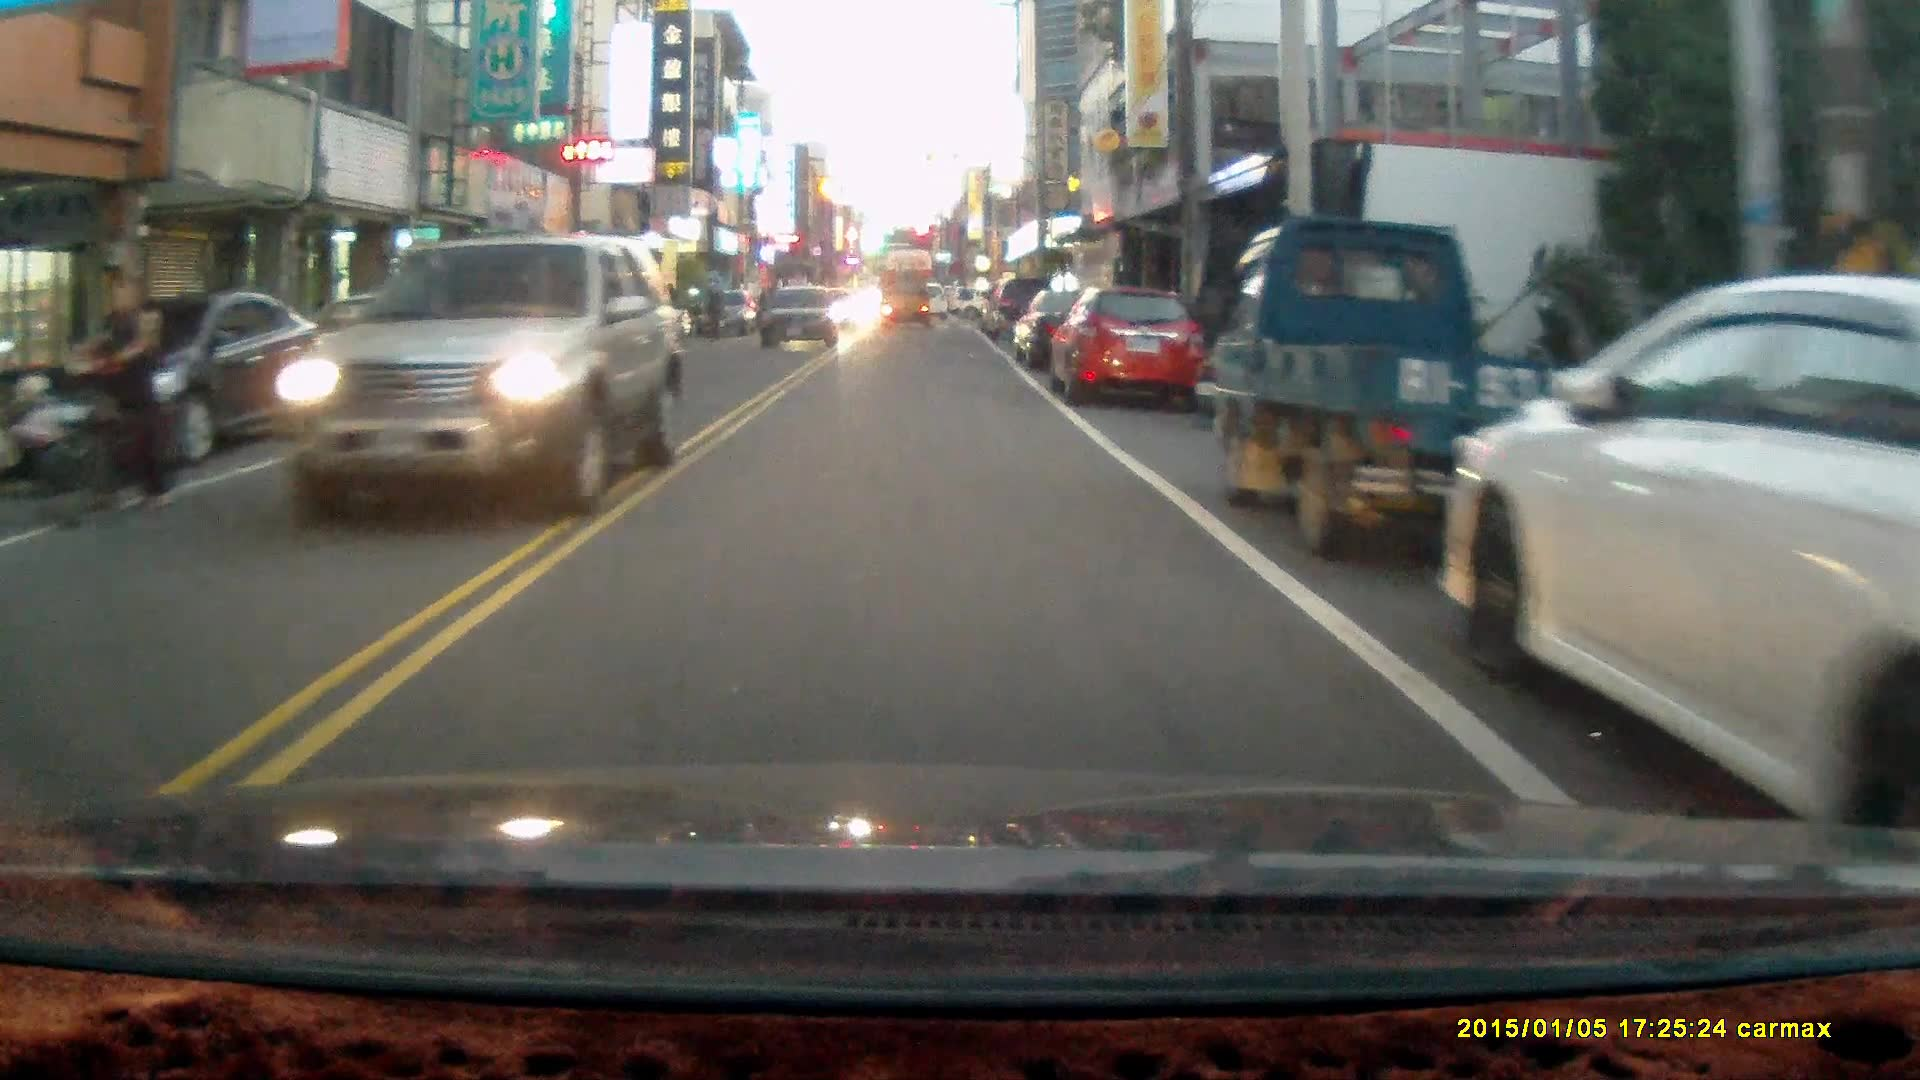pedestrian: (702, 277, 724, 343)
rider: (30, 266, 180, 527)
vehicle: (1439, 274, 1920, 882), (1212, 217, 1645, 569), (273, 238, 682, 526), (1053, 289, 1205, 409), (1007, 286, 1141, 380), (764, 285, 837, 354), (879, 276, 933, 332)
